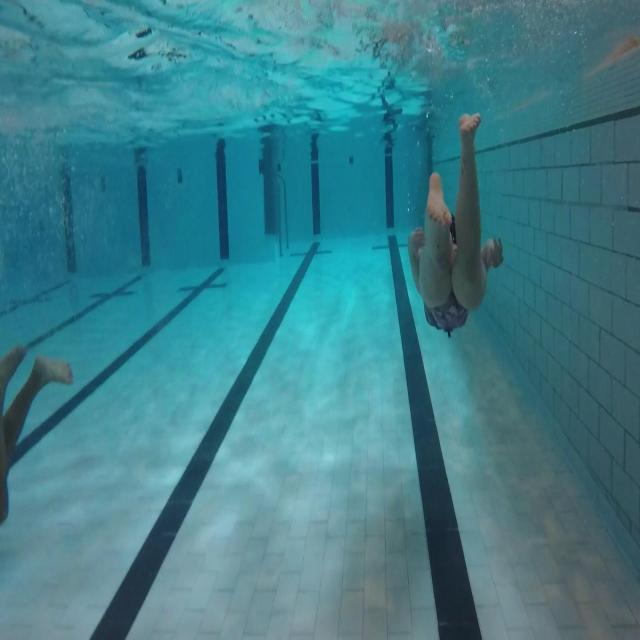human: (407, 111, 504, 338), (0, 341, 74, 525)
